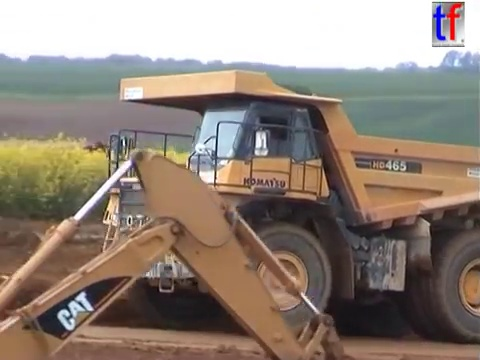excavator: (1, 144, 354, 360)
truck: (98, 66, 479, 346)
